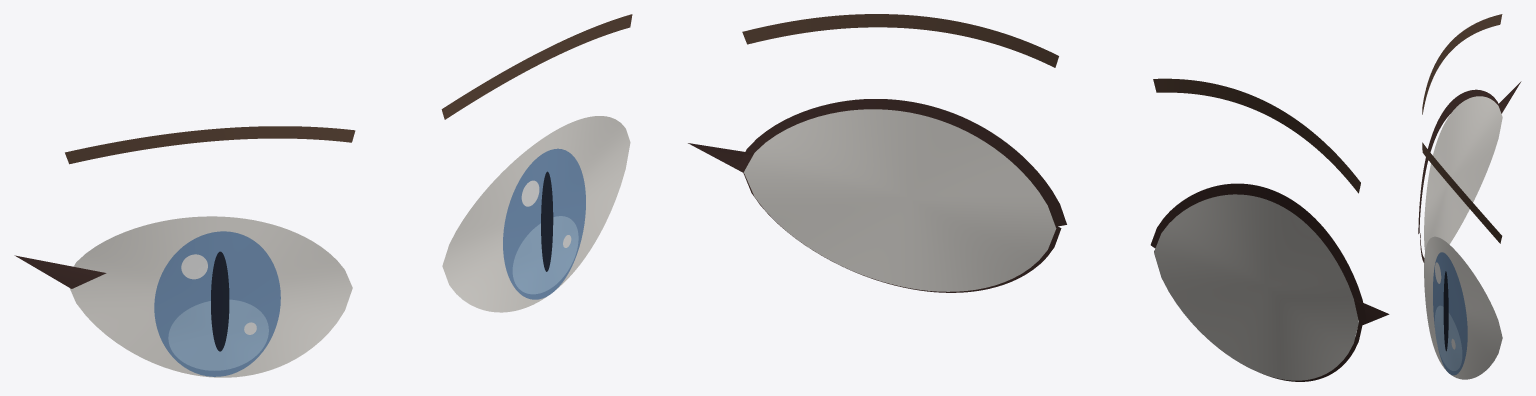
The picture shows the model from 3 angles, left to right: view 1: azimuth 30°, elevation 25°; view 2: azimuth 150°, elevation 25°; view 3: azimuth 270°, elevation 25°; orthographic projection. The views are drawn at different scales.
Parts seen in each view (by area): view 1: Eye_White_-1, Eye_White_1, Eye_Iris_-1, Eye_Iris_1, Eye_Iris_Light_-1, Eyebrow_-1, Eye_Iris_Light_1, Eyebrow_1, Eye_Pupil_-1, Eye_LashWing_-1, Eye_Pupil_1, Eye_Glint_-1_0; view 2: Eye_White_1, Eye_White_-1, Eyebrow_1, Eye_UpperLid_1, Eye_UpperLid_-1, Eyebrow_-1, Eye_LowerLid_1, Eye_LashWing_1; view 3: Eye_White_-1, Eye_White_1, Eye_Iris_1, Eye_Iris_Light_1, Eyebrow_-1, Eye_UpperLid_-1, Eyebrow_1, Eye_Pupil_1, Eye_LashWing_-1, Eye_Glint_1_0.
Boxes of the visible parts, left/top/right/bottom form: Eye_White_-1: left=69, top=216, right=352, bottom=377; Eye_White_1: left=442, top=116, right=630, bottom=312; Eye_Iris_-1: left=154, top=231, right=280, bottom=376; Eye_Iris_1: left=503, top=148, right=585, bottom=299; Eye_Iris_Light_-1: left=168, top=299, right=268, bottom=370; Eyebrow_-1: left=65, top=126, right=355, bottom=164; Eye_Iris_Light_1: left=512, top=216, right=578, bottom=294; Eyebrow_1: left=441, top=14, right=632, bottom=119; Eye_Pupil_-1: left=211, top=251, right=229, bottom=351; Eye_LashWing_-1: left=14, top=255, right=106, bottom=288; Eye_Pupil_1: left=541, top=171, right=553, bottom=271; Eye_Glint_-1_0: left=181, top=254, right=207, bottom=279; Eye_White_1: left=744, top=109, right=1056, bottom=291; Eye_White_-1: left=1154, top=194, right=1358, bottom=380; Eyebrow_1: left=742, top=14, right=1058, bottom=67; Eye_UpperLid_1: left=737, top=99, right=1066, bottom=226; Eye_UpperLid_-1: left=1150, top=183, right=1366, bottom=320; Eyebrow_-1: left=1153, top=78, right=1360, bottom=193; Eye_LowerLid_1: left=743, top=171, right=1061, bottom=292; Eye_LashWing_1: left=688, top=143, right=753, bottom=172; Eye_White_-1: left=1424, top=96, right=1502, bottom=251; Eye_White_1: left=1424, top=236, right=1502, bottom=379; Eye_Iris_1: left=1433, top=252, right=1467, bottom=375; Eye_Iris_Light_1: left=1434, top=305, right=1462, bottom=370; Eyebrow_-1: left=1422, top=14, right=1502, bottom=114; Eye_UpperLid_-1: left=1418, top=89, right=1501, bottom=233; Eyebrow_1: left=1422, top=142, right=1502, bottom=243; Eye_Pupil_1: left=1443, top=271, right=1448, bottom=351; Eye_LashWing_-1: left=1498, top=81, right=1521, bottom=113; Eye_Glint_1_0: left=1435, top=262, right=1441, bottom=283.
Size of the model in its own units: 0.418 by 0.157 by 0.0725.
